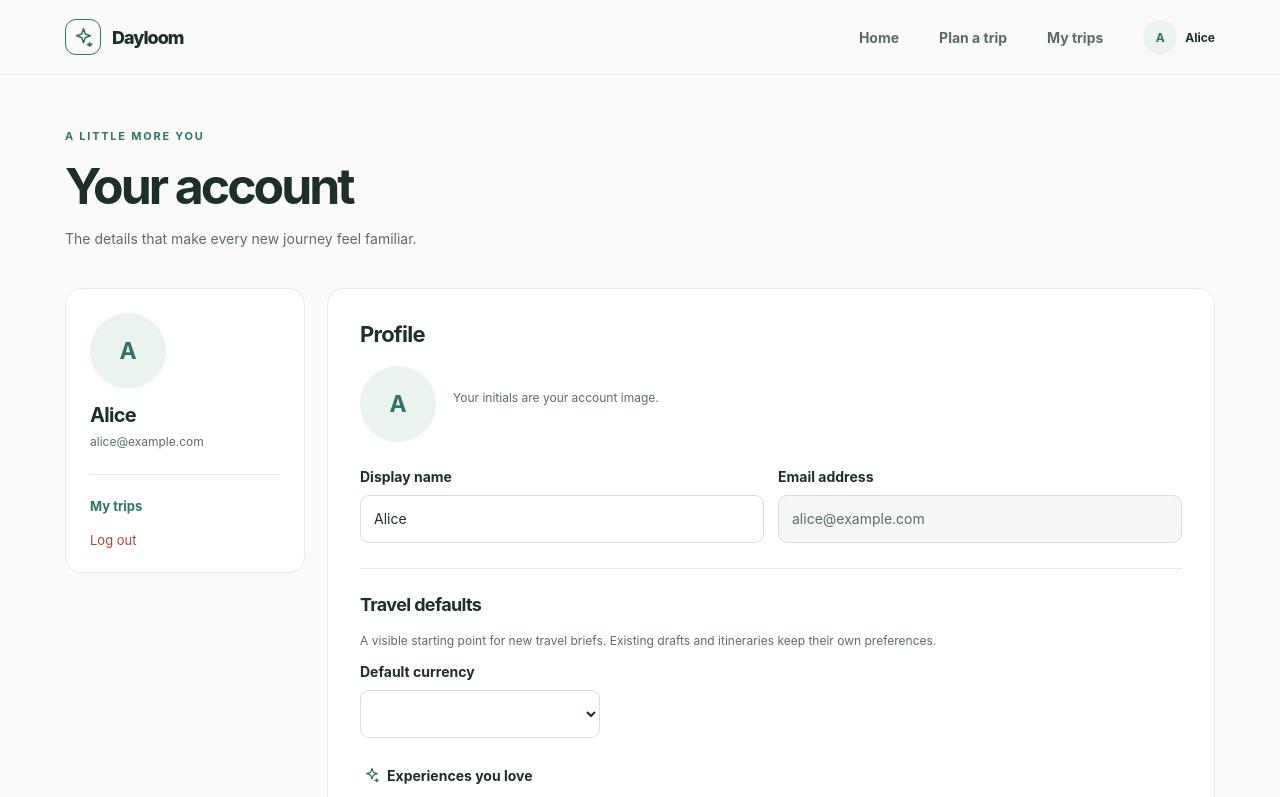
Test: keeps a failed sidebar logout visible after quarantining the profile
This screenshot has width=1280, height=797.
expect the field labelled "Display name" is shown: met, box [360,495,764,543]
Click the button "Log out": (113, 540) [90,532,136,548]
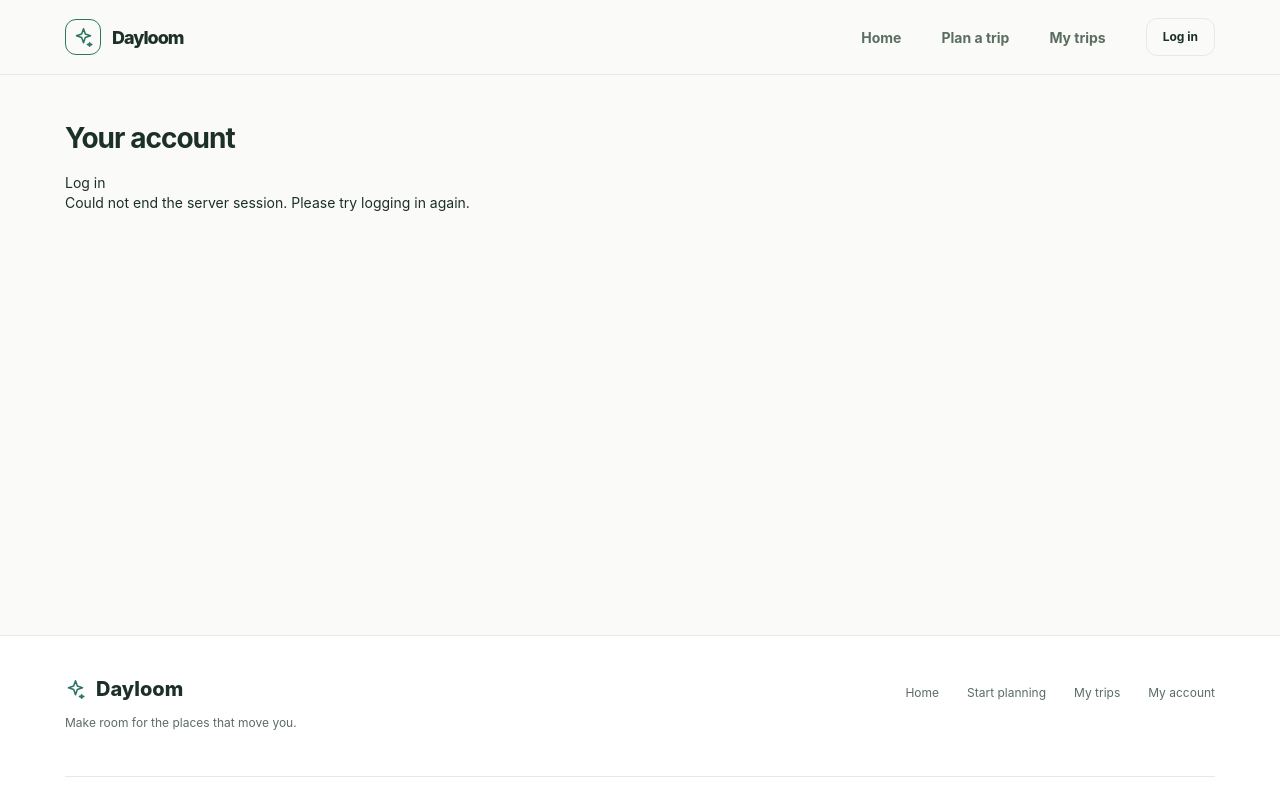
expect the text labelled "Display name" is gone: met
expect the text "alice@example.com" is gone: met
expect the message shows "Could not end the server session.": met, box [65,194,470,211]
